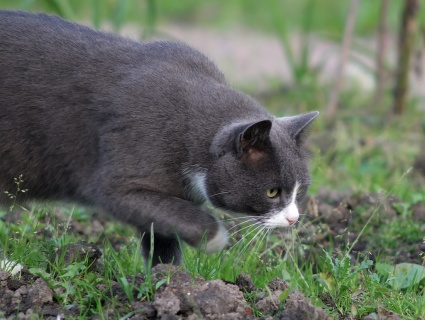Cat: (0, 7, 319, 278)
